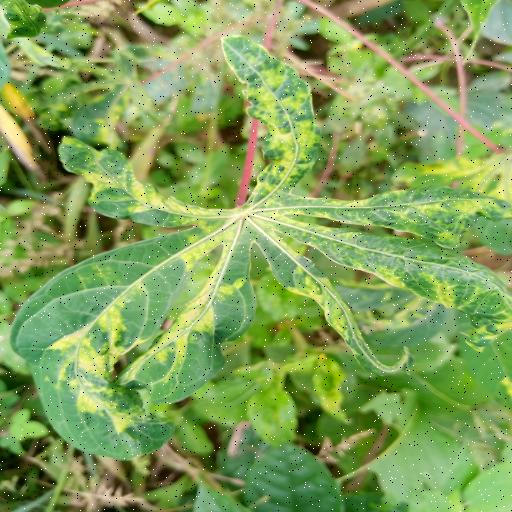Cassava_Mosaic: (14, 34, 512, 462)
